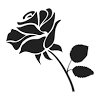rose: (4, 5, 67, 65)
